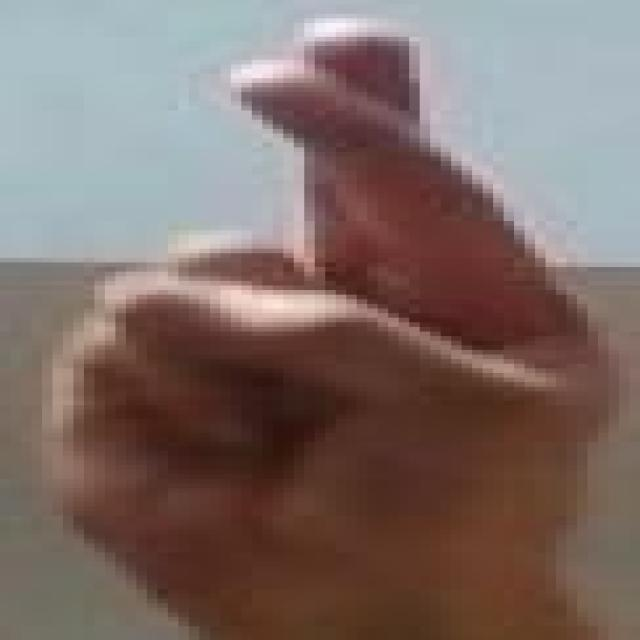R: (2, 2, 640, 640)
